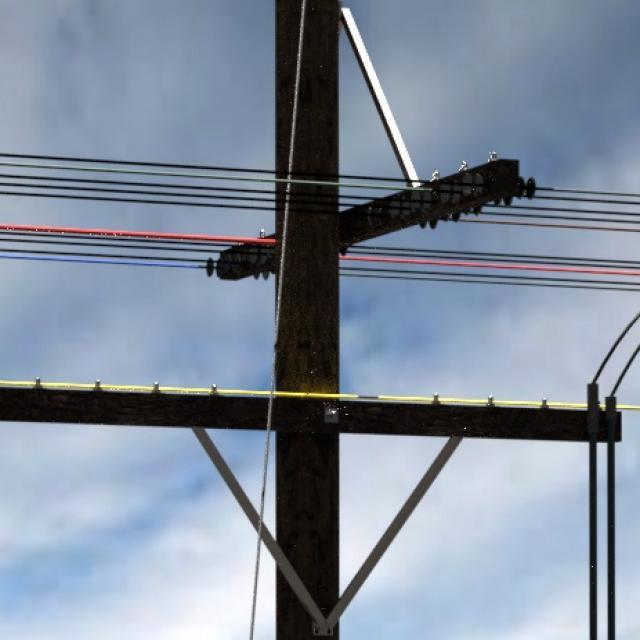crossarm: (216, 152, 534, 281), (0, 380, 622, 443)
pole: (275, 0, 341, 640)
